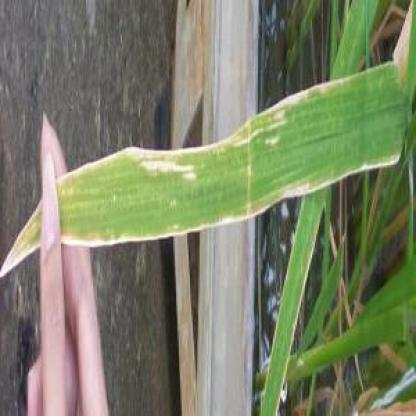Blight: (56, 72, 367, 197)
